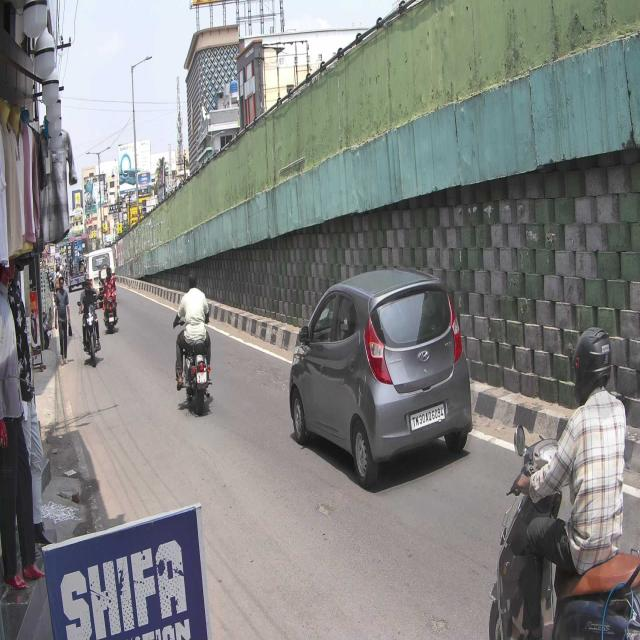single_rider: (484, 326, 640, 640), (172, 268, 214, 417)
